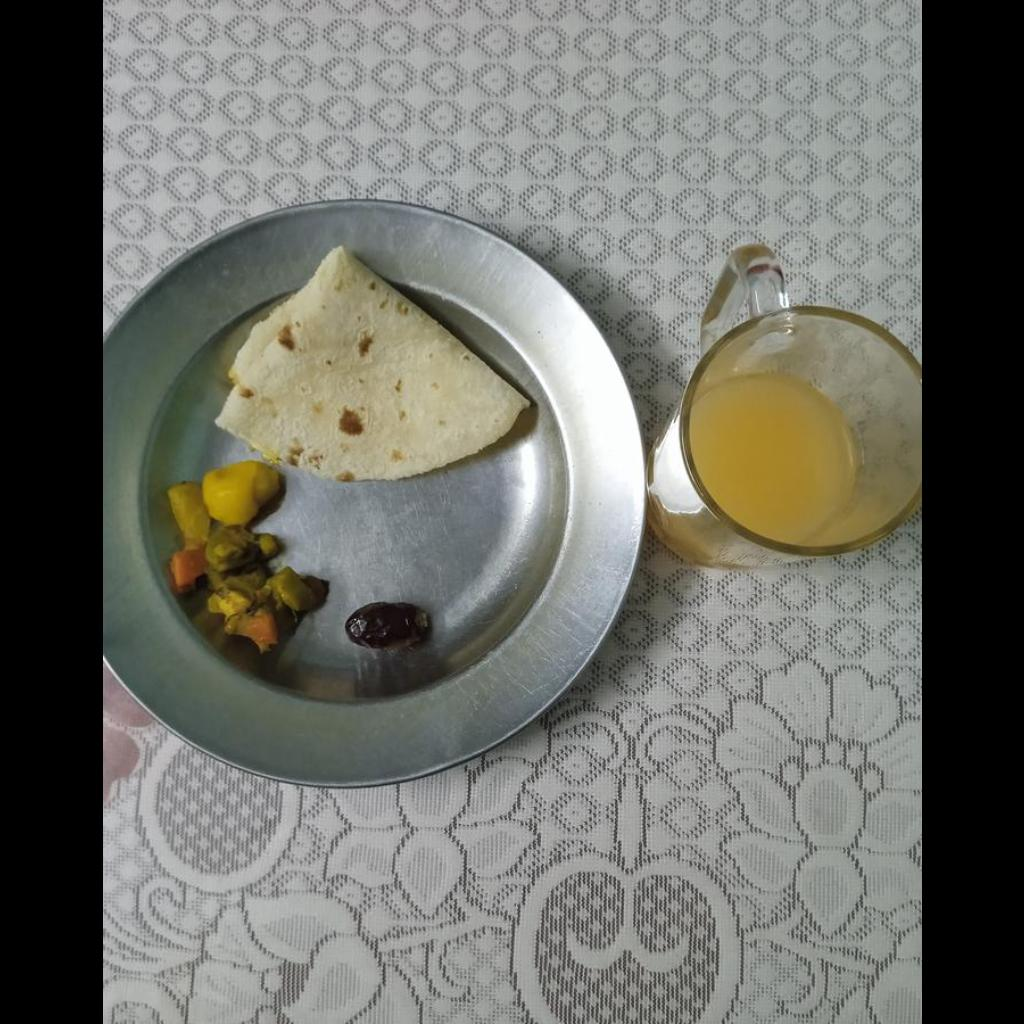dates: (350, 596, 434, 645)
juice: (685, 384, 856, 533)
ruti: (213, 245, 529, 484)
vegetable: (168, 466, 314, 644)
